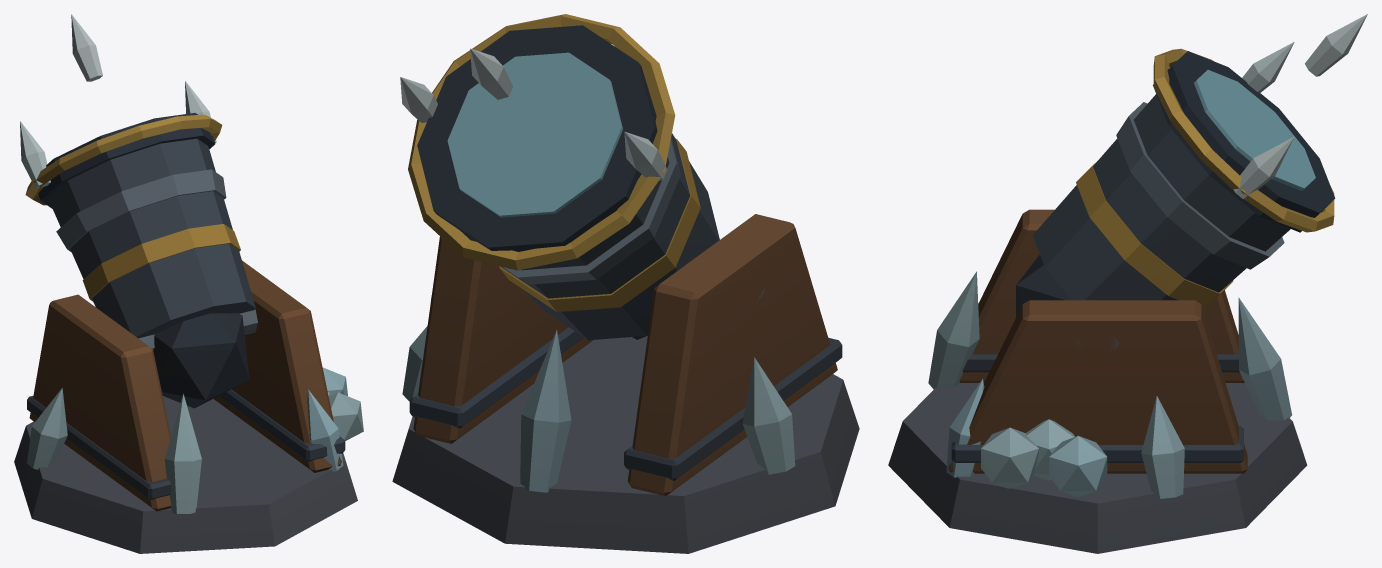
The model's file is def_frostmortar.glb.
3 renders of one model, left to right at view 1: azimuth 30°, elevation 25°; view 2: azimuth 150°, elevation 25°; view 3: azimuth 270°, elevation 25°, orthographic. The views are drawn at different scales.
Parts seen in each view (by area): view 1: Base, Barrel, Up2, Up3Barrel, Up2Barrel; view 2: Base, Barrel, Up3Barrel, Up2, Up2Barrel; view 3: Base, Barrel, Up2, Up3Barrel, Up2Barrel.
Part boxes in pixels (x1=…): Base: x1=14, y1=260, x2=363, y2=553; Barrel: x1=38, y1=113, x2=255, y2=408; Up2: x1=27, y1=388, x2=343, y2=513; Up3Barrel: x1=20, y1=14, x2=222, y2=205; Up2Barrel: x1=56, y1=169, x2=226, y2=252; Base: x1=392, y1=214, x2=859, y2=553; Barrel: x1=417, y1=25, x2=719, y2=340; Up3Barrel: x1=400, y1=14, x2=675, y2=270; Up2: x1=402, y1=326, x2=795, y2=492; Up2Barrel: x1=503, y1=137, x2=680, y2=284; Base: x1=888, y1=209, x2=1307, y2=553; Barrel: x1=1016, y1=51, x2=1335, y2=317; Up2: x1=928, y1=271, x2=1291, y2=498; Up3Barrel: x1=1153, y1=14, x2=1367, y2=232; Up2Barrel: x1=1116, y1=102, x2=1284, y2=269.
Bounding box in the file's own units: 1.72 × 2.04 × 1.97.
